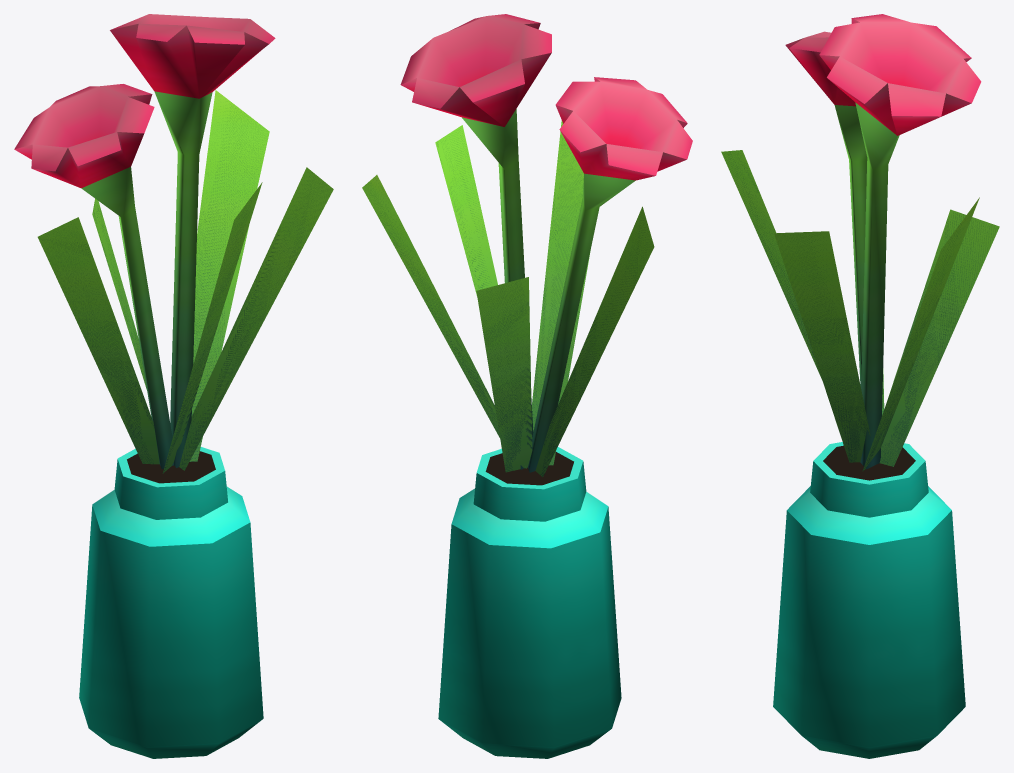
File: Plant_Vase_01_Breakable.fbx
3 views of the same model, side by side, from view 1: azimuth 30°, elevation 25°; view 2: azimuth 150°, elevation 25°; view 3: azimuth 270°, elevation 25° (orthographic).
Visible parts, largest first — view 1: Break000, Break002, Break004, Break003, Break001; view 2: Break000, Break001, Break003, Break004, Break002; view 3: Break000, Break004, Break002, Break001, Break003.
Boxes of the visible parts, <box> form: Break000: <box>79,447,263,758</box>; Break002: <box>179,90,333,470</box>; Break004: <box>110,14,275,467</box>; Break003: <box>14,84,173,469</box>; Break001: <box>37,182,262,473</box>; Break000: <box>438,447,621,758</box>; Break001: <box>476,120,654,476</box>; Break003: <box>527,77,692,472</box>; Break004: <box>400,14,551,469</box>; Break002: <box>362,125,526,468</box>; Break000: <box>773,442,965,758</box>; Break004: <box>819,14,981,469</box>; Break002: <box>774,197,979,471</box>; Break001: <box>721,150,999,466</box>; Break003: <box>785,31,867,388</box>.
Size of the model in its own units: 29.59 by 70.5 by 25.02.
Materials: 1 (1 with a texture image).
